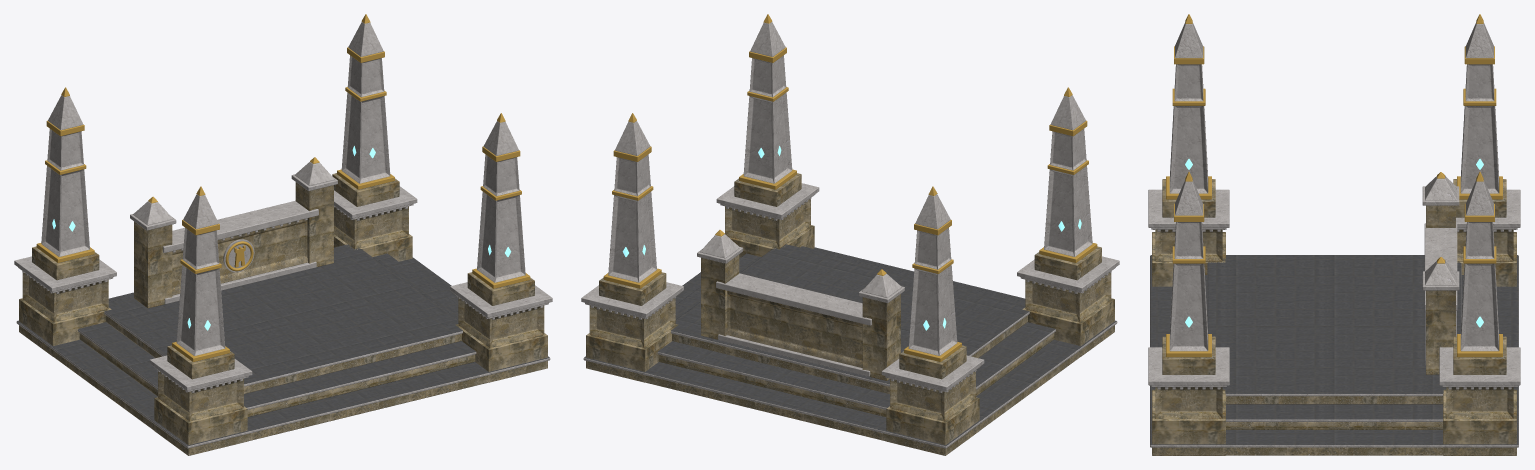
The model's file is teleport_gate.glb.
The picture shows the model from 3 angles, left to right: view 1: azimuth 30°, elevation 25°; view 2: azimuth 150°, elevation 25°; view 3: azimuth 270°, elevation 25°; orthographic projection. The views are drawn at different scales.
Visible parts, largest first — view 1: Gate_Dais, Gate_Obelisk_FL, Gate_Obelisk_FR, Gate_Obelisk_BL, Gate_Wall, Gate_Obelisk_BR, Gate_Crest; view 2: Gate_Dais, Gate_Wall, Gate_Obelisk_BL, Gate_Obelisk_BR, Gate_Obelisk_FL, Gate_Obelisk_FR; view 3: Gate_Dais, Gate_Obelisk_BR, Gate_Obelisk_FR, Gate_Obelisk_FL, Gate_Obelisk_BL, Gate_Wall.
Part boxes in pixels (x1,y1,x2,y2): Gate_Dais: (16, 244, 550, 454); Gate_Obelisk_FL: (149, 186, 252, 455); Gate_Obelisk_FR: (450, 113, 552, 382); Gate_Obelisk_BL: (14, 87, 116, 356); Gate_Wall: (130, 157, 337, 308); Gate_Obelisk_BR: (332, 14, 417, 261); Gate_Crest: (223, 239, 254, 272); Gate_Dais: (583, 244, 1117, 454); Gate_Wall: (697, 230, 904, 380); Gate_Obelisk_BL: (881, 186, 984, 455); Gate_Obelisk_BR: (581, 113, 683, 382); Gate_Obelisk_FL: (1017, 87, 1119, 356); Gate_Obelisk_FR: (716, 14, 819, 258); Gate_Dais: (1150, 255, 1518, 455); Gate_Obelisk_BR: (1439, 172, 1520, 455); Gate_Obelisk_FR: (1148, 172, 1229, 455); Gate_Obelisk_FL: (1148, 14, 1229, 286); Gate_Obelisk_BL: (1453, 14, 1520, 286); Gate_Wall: (1422, 172, 1459, 374).
Bounding box in the file's own units: 11.08 × 7.24 × 9.08.
Materials: 5 (3 with a texture image).
